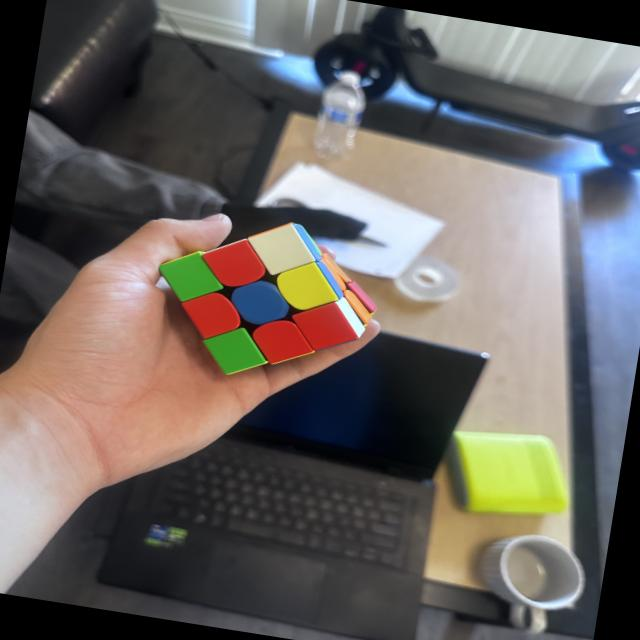sticker: (248, 224, 316, 276), (160, 252, 225, 303), (229, 278, 294, 329), (179, 291, 245, 341), (202, 239, 268, 288), (275, 262, 338, 313), (294, 301, 357, 351), (204, 327, 268, 376), (251, 318, 315, 364)
